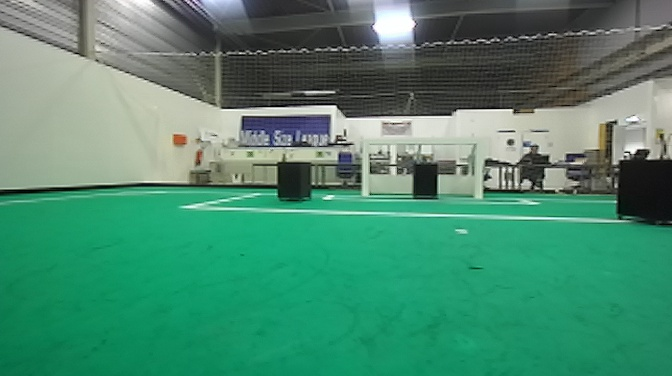goalpost: (466, 134, 489, 206), (363, 138, 374, 199)
